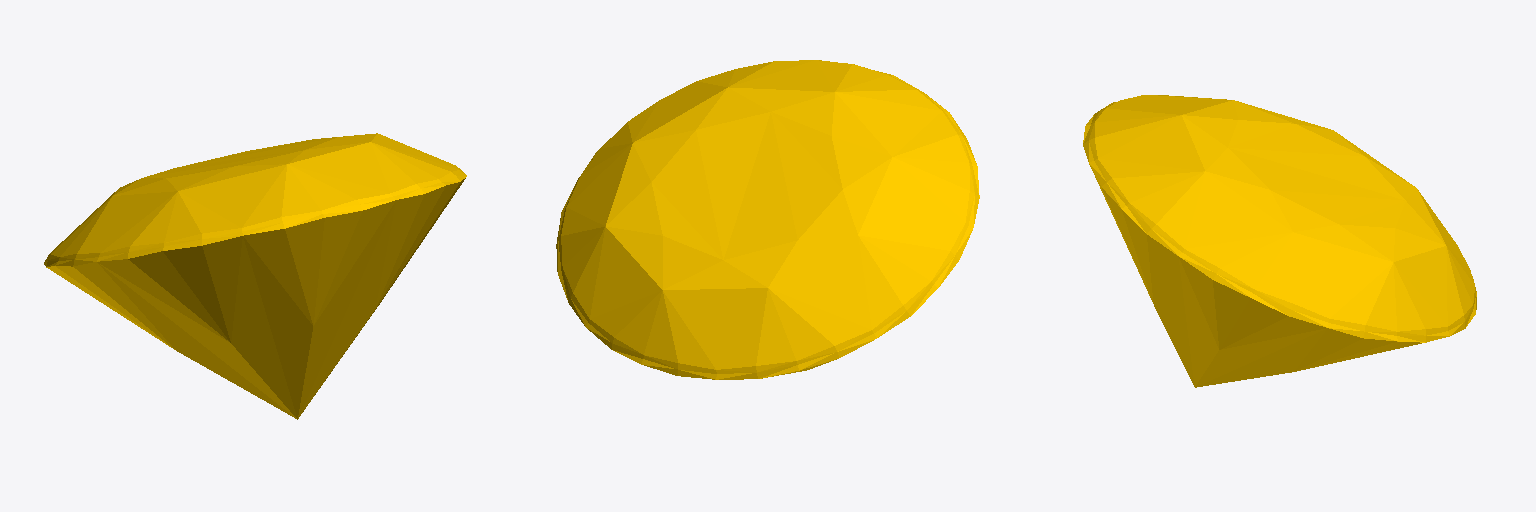
Rendered from diamond3.obj.
3 views of the same model, side by side, from view 1: azimuth 30°, elevation 25°; view 2: azimuth 150°, elevation 25°; view 3: azimuth 270°, elevation 25° (orthographic).
Parts seen in each view (by area): view 1: test_test_Material.001; view 2: test_test_Material.001; view 3: test_test_Material.001.
Part boxes in pixels (left/top/right/bottom): test_test_Material.001: left=44, top=133, right=466, bottom=419; test_test_Material.001: left=556, top=60, right=979, bottom=379; test_test_Material.001: left=1083, top=95, right=1476, bottom=387.
Size of the model in its own units: 6.21 by 4.19 by 5.65.